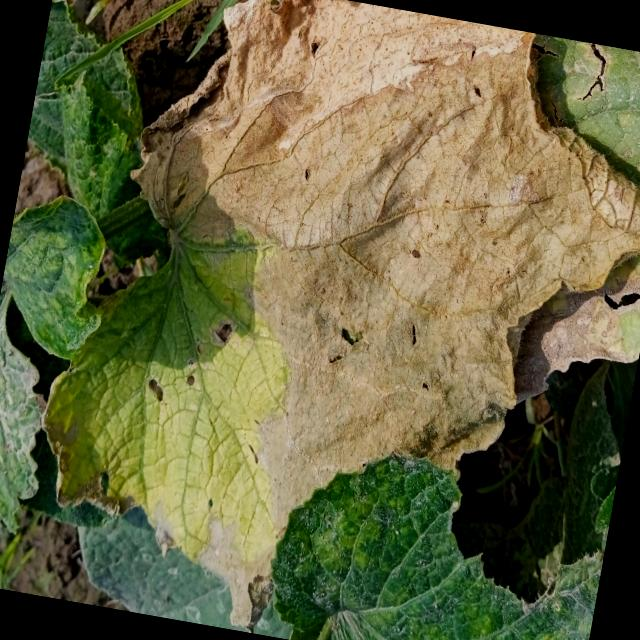cucumber_gummy: (6, 0, 640, 640)
